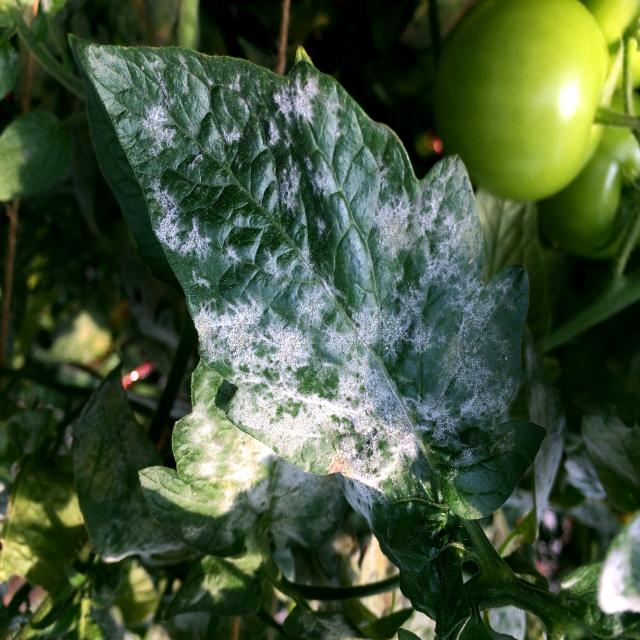Powdery Mildew: (75, 39, 533, 508)
